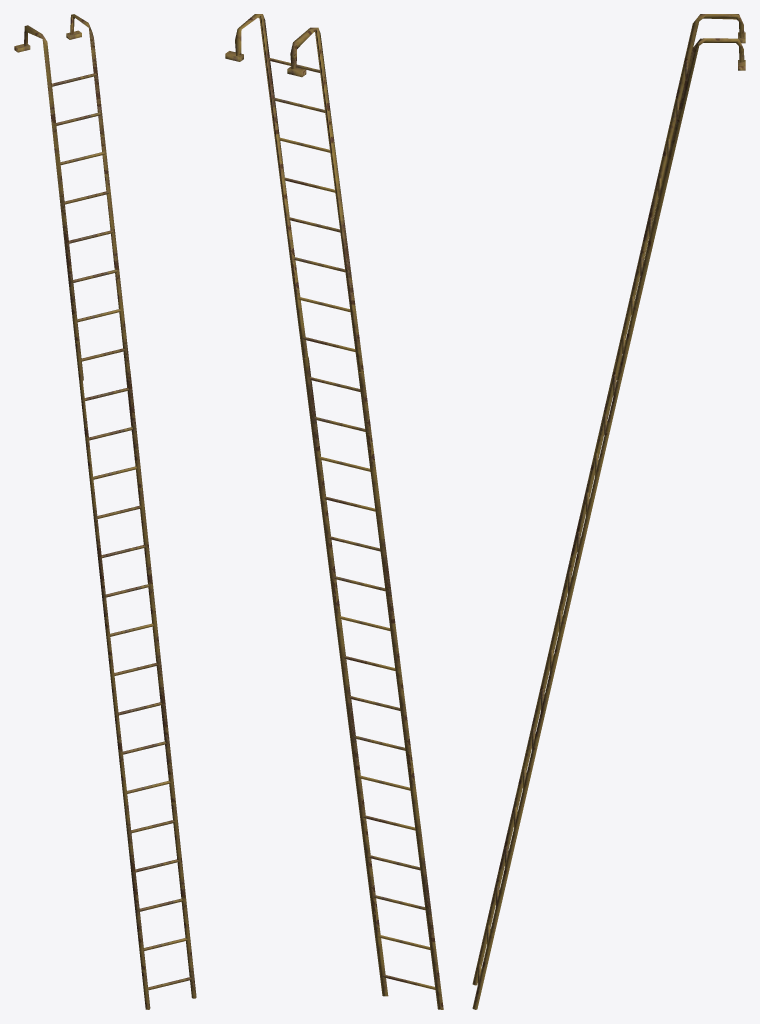
File: ladder_600_harbor_wall.glb
The picture shows the model from 3 angles, left to right: view 1: azimuth 30°, elevation 25°; view 2: azimuth 150°, elevation 25°; view 3: azimuth 270°, elevation 25°; orthographic projection. The views are drawn at different scales.
Visible parts, largest first — view 1: ladder_600_harbor_wall; view 2: ladder_600_harbor_wall; view 3: ladder_600_harbor_wall.
Boxes of the visible parts, x1,y1,x2,y2 form: ladder_600_harbor_wall: (14, 14, 196, 1009); ladder_600_harbor_wall: (225, 14, 443, 1009); ladder_600_harbor_wall: (472, 14, 745, 1009).
Bounding box in the file's own units: 0.6941 × 9.27 × 2.36.
Materials: 1 (1 with a texture image).
